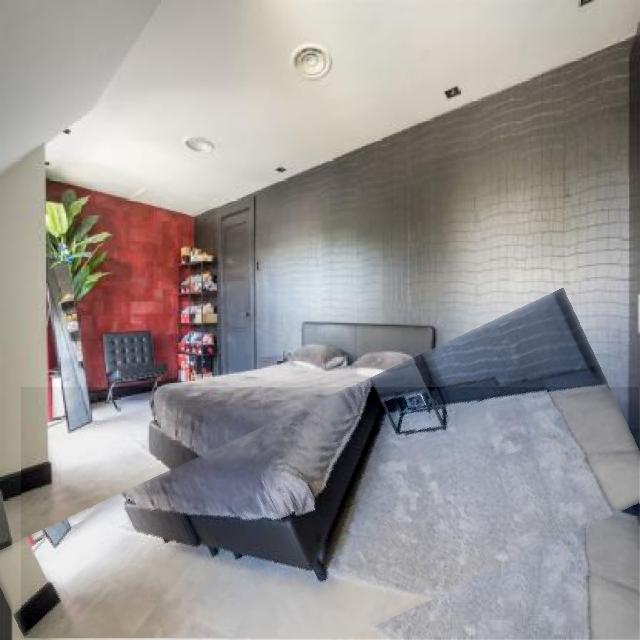floor: (21, 388, 640, 639)
